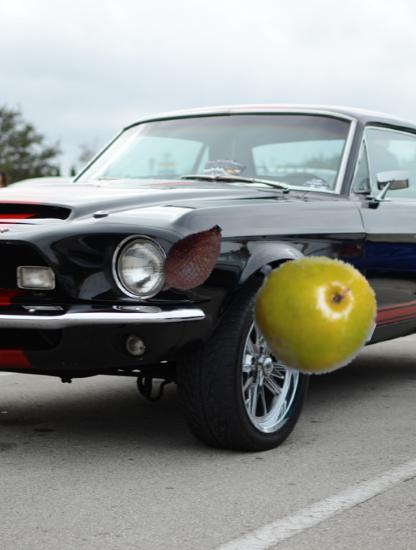Maracuja: (248, 250, 376, 378)
Salak: (148, 217, 235, 304)
